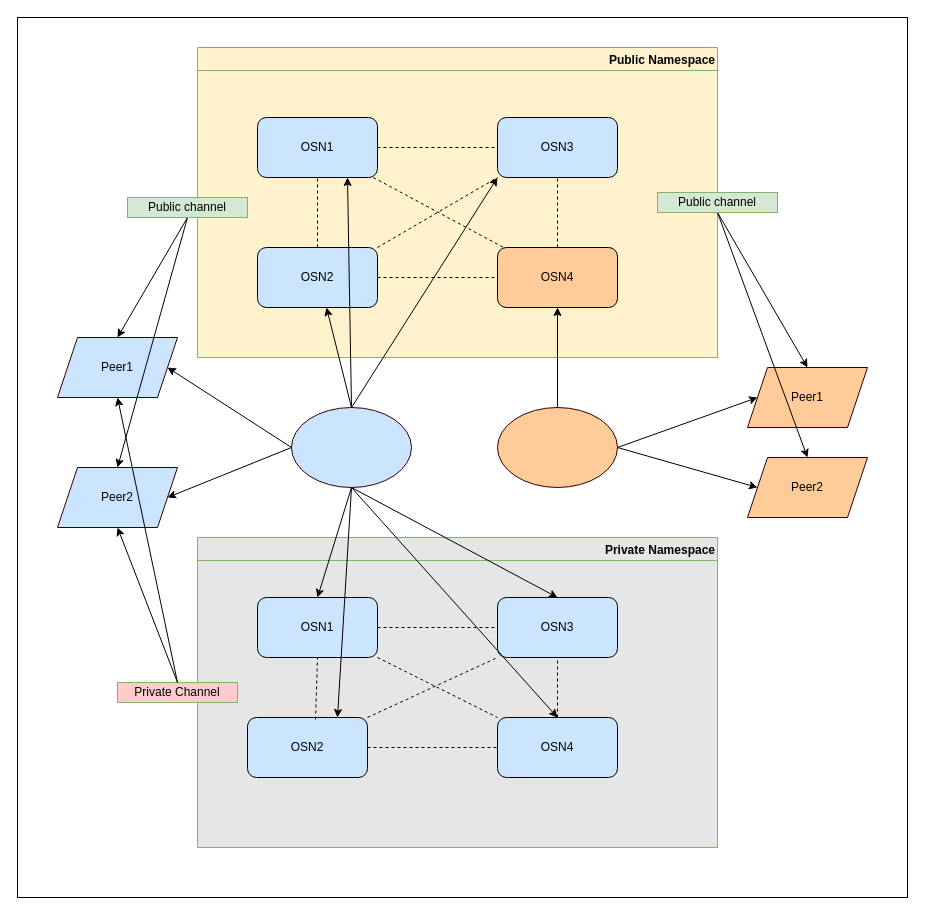
Image size: 925x915. Some labels were removed from this diagram. The centre of each missing label's shape, as x and y in pixels:
Org1MSP: (x=351, y=447)
Org2MSP: (x=557, y=447)
